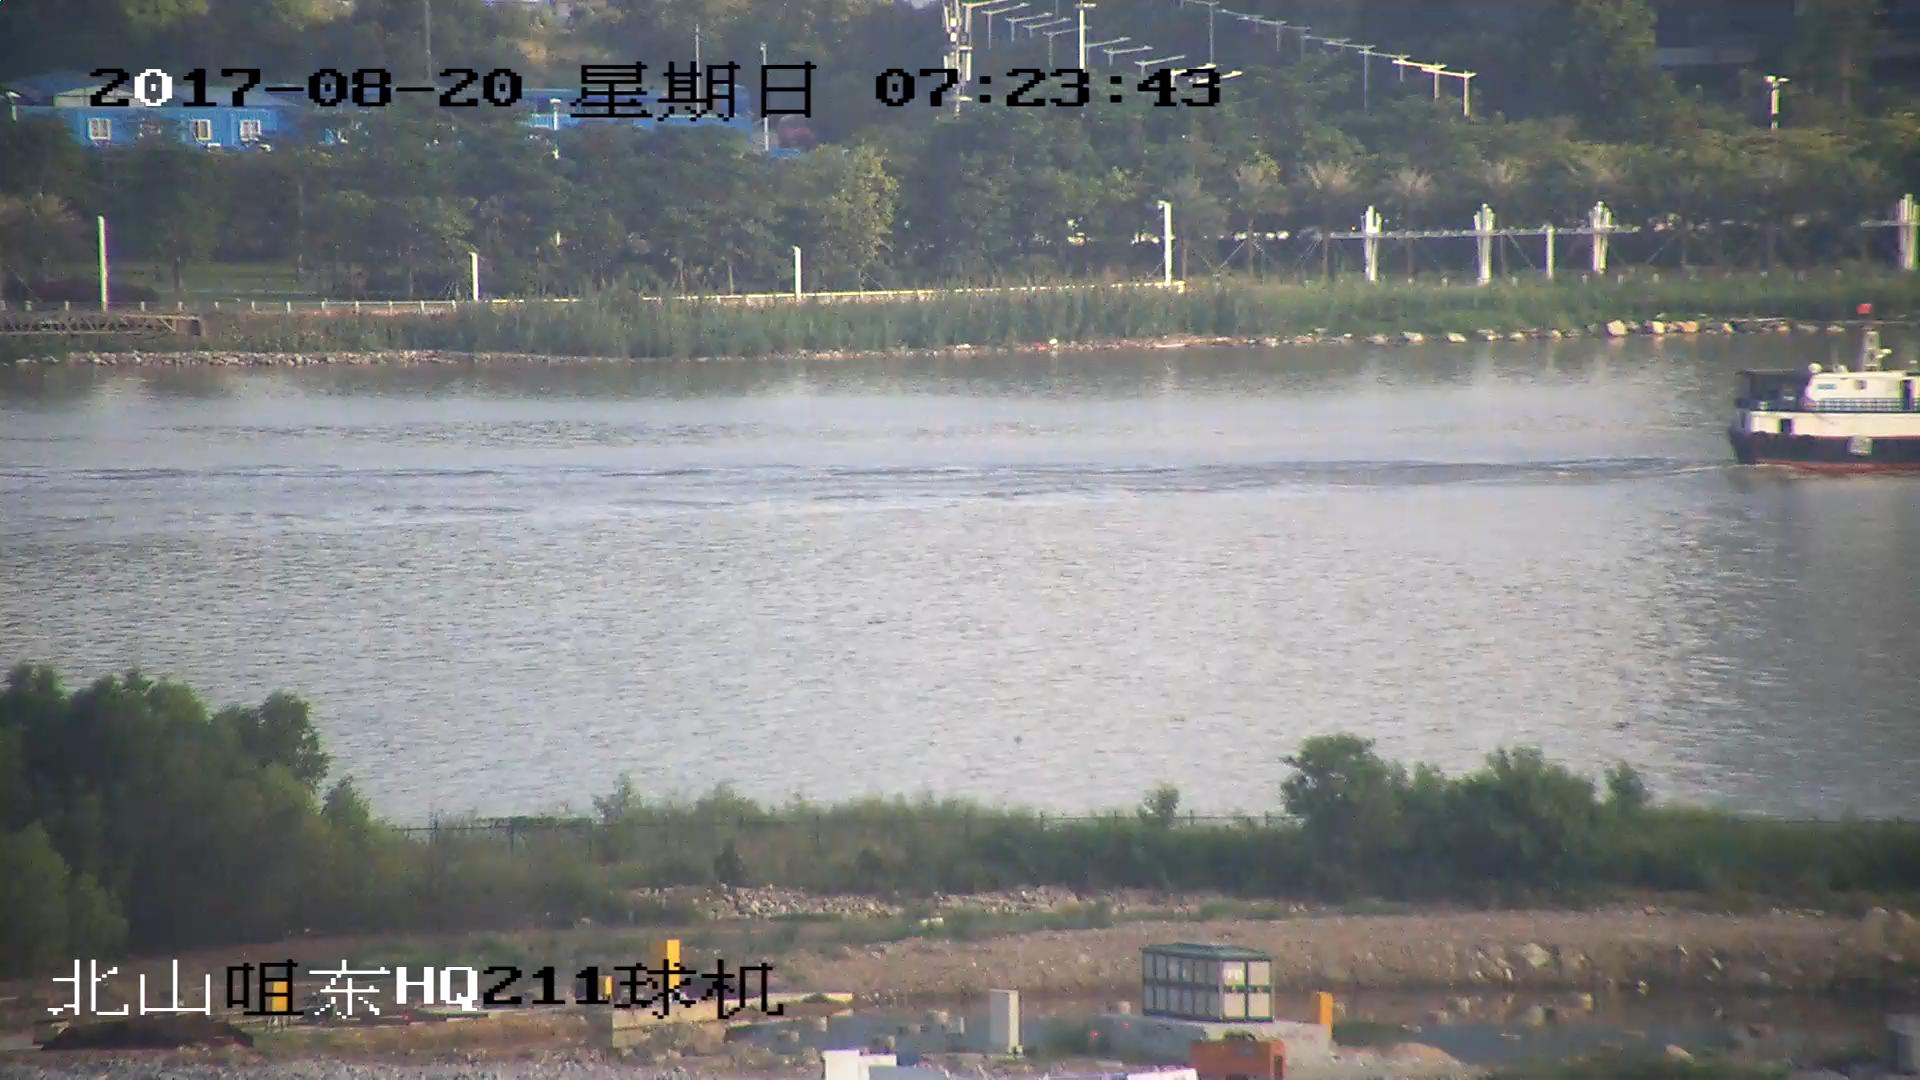fishing boat: (1729, 330, 1920, 472)
